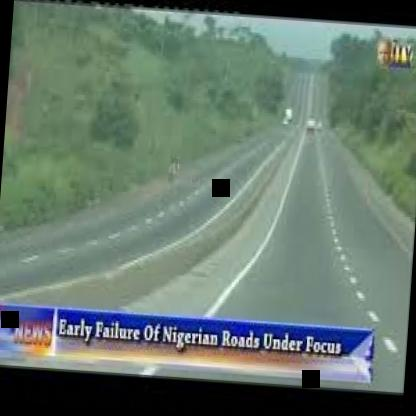car: (279, 100, 298, 134), (301, 112, 316, 138)
